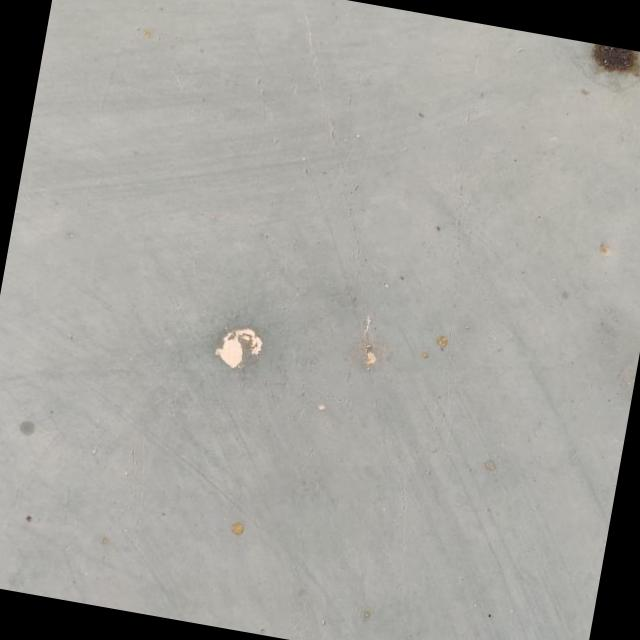Paint-off: (203, 314, 274, 394)
